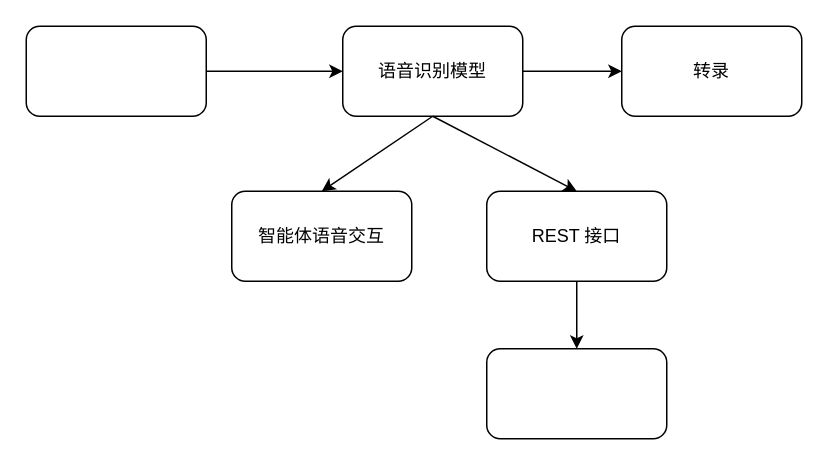
Image size: 828x465. Some labels were removed from this diagram. Here are the shapes that lost their labels. From the top down, the box of each, then its label:
(25, 25, 206, 116): 语音输入
(485, 347, 667, 439): 场景应用调用
